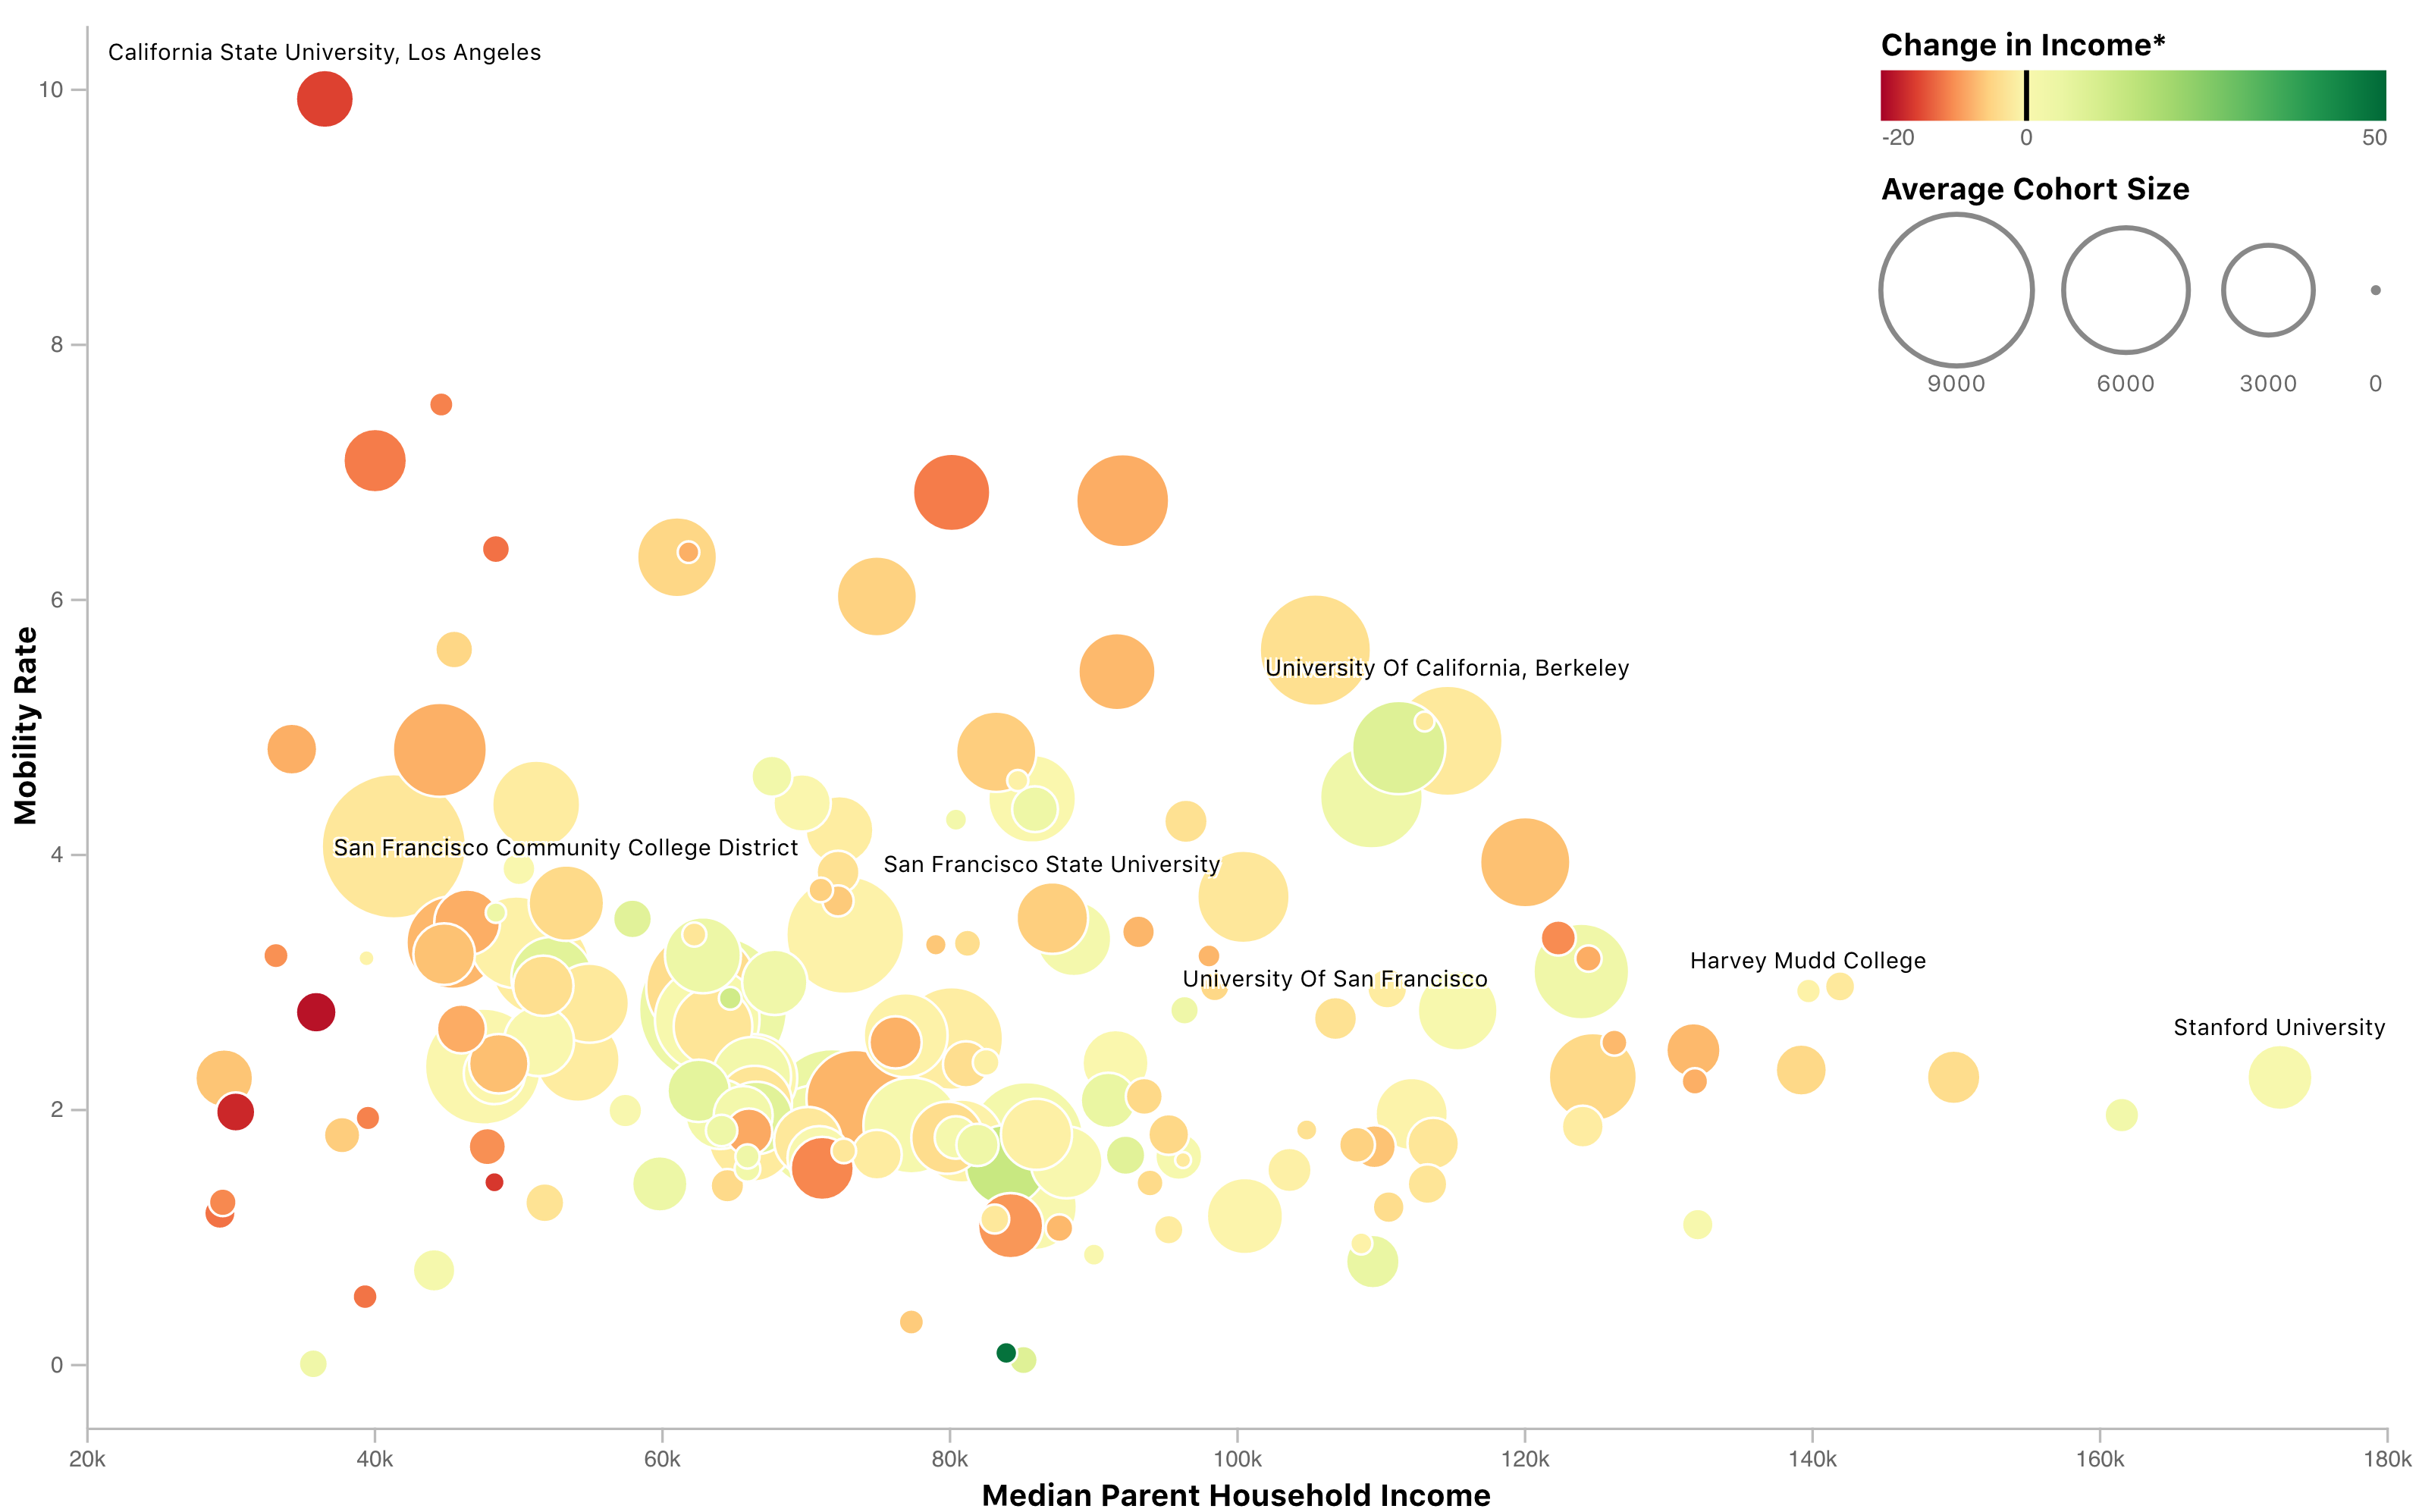

Layout of this report page (visuals, bound fields, positions):
{"tool":"tableau","page":{"name":"Bubble Chart Dashboard","canvas":[960,600],"ordinal":0},"visuals":[{"type":"worksheet","title":"Bubble Chart","mark":"Circle","rows":["mr_kq5_pq1"],"cols":["par_median"],"box":[8,8,944,584]},{"type":"legend","title":"Bubble Chart","param":"[federated.1mek0v10rrgu3l168nonb0jvqdt0].[none:trend_bottom40:qk]","box":[815,13,140,91]},{"type":"legend","title":"Bubble Chart","param":"[federated.1mek0v10rrgu3l168nonb0jvqdt0].[none:count:qk]","box":[817,86,140,165]}]}

Visuals, with their boxes in screenshot pixels (x1, y1, x2, y2), scaled from the page's 960x600 canvas onto the 2419x1512 screenshot:
"Bubble Chart" worksheet (Circle marks): {"left": 20, "top": 20, "right": 2399, "bottom": 1492}
"Bubble Chart" legend: {"left": 2053, "top": 33, "right": 2406, "bottom": 262}
"Bubble Chart" legend: {"left": 2059, "top": 217, "right": 2411, "bottom": 632}
